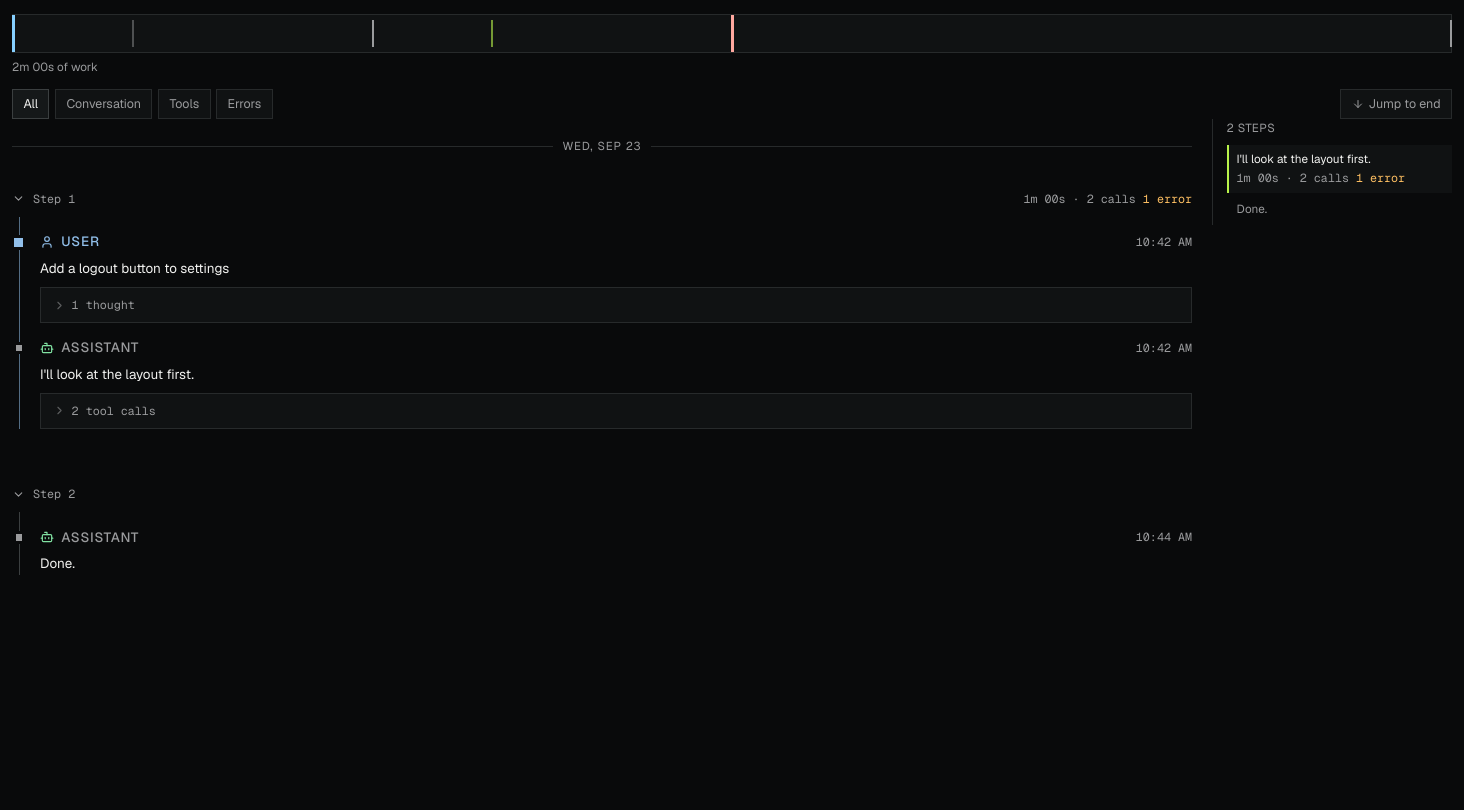
Test: TranscriptView › tools filter shows flat rows without cluster framing
Click the button "Tools". click: (184, 104)
box: [158,89,210,119]
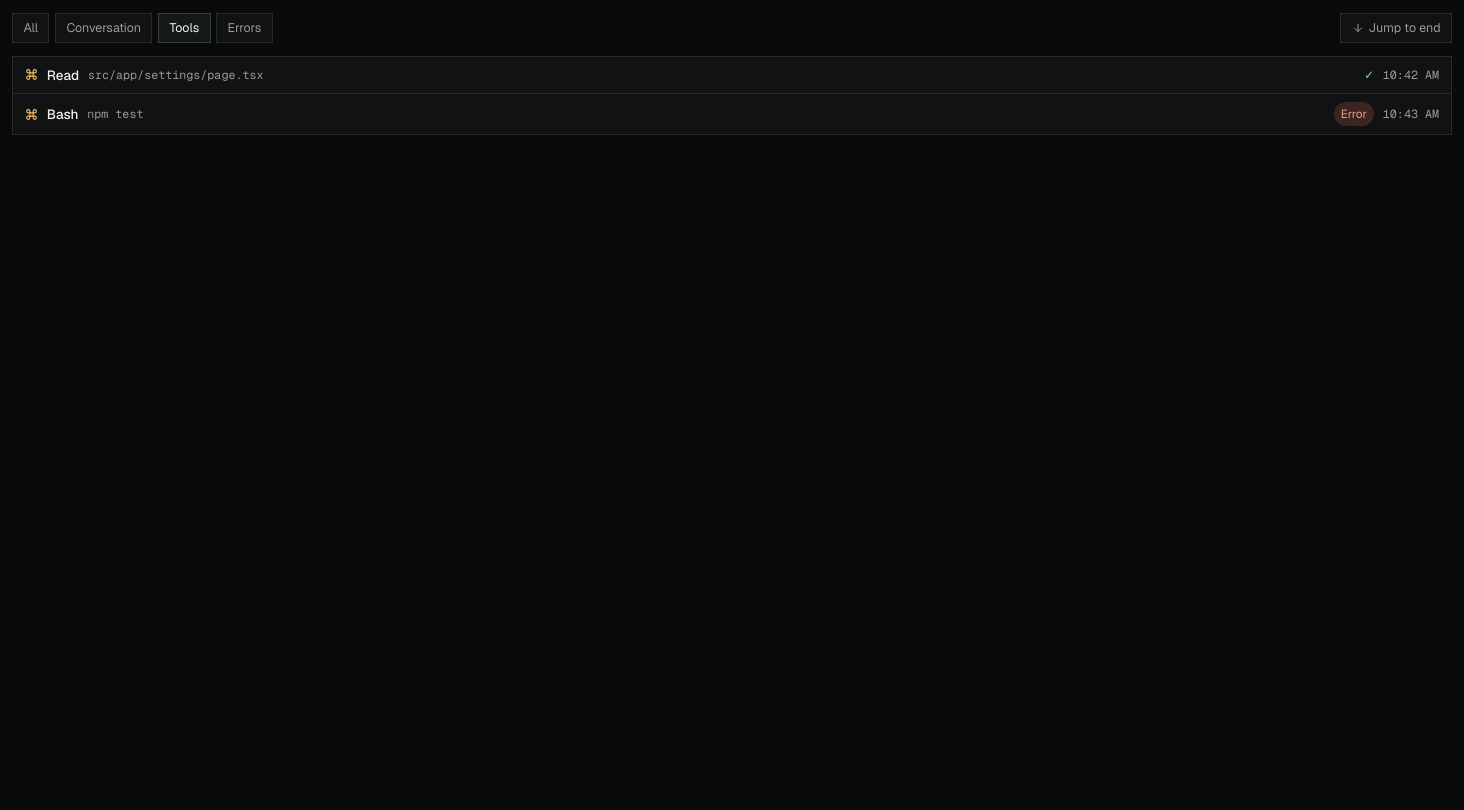
Check: the button "2 tool calls" is gone
Check: the text "Add a logout button to settings" is gone
Check: the text "Read" is shown, box [47,65,79,85]
